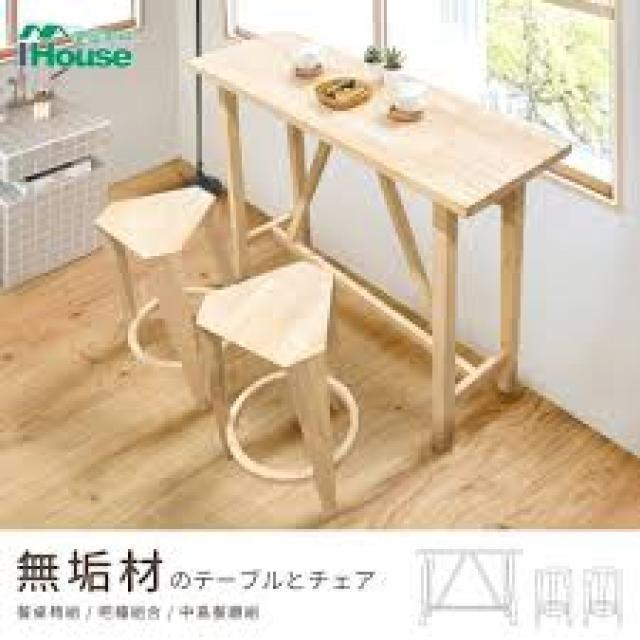table: (75, 19, 586, 526)
